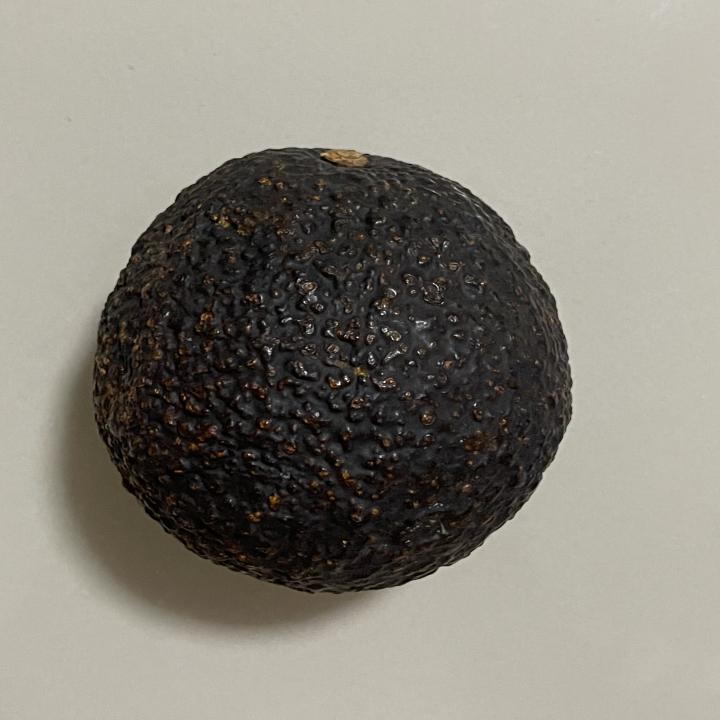Level3: (81, 138, 587, 600)
